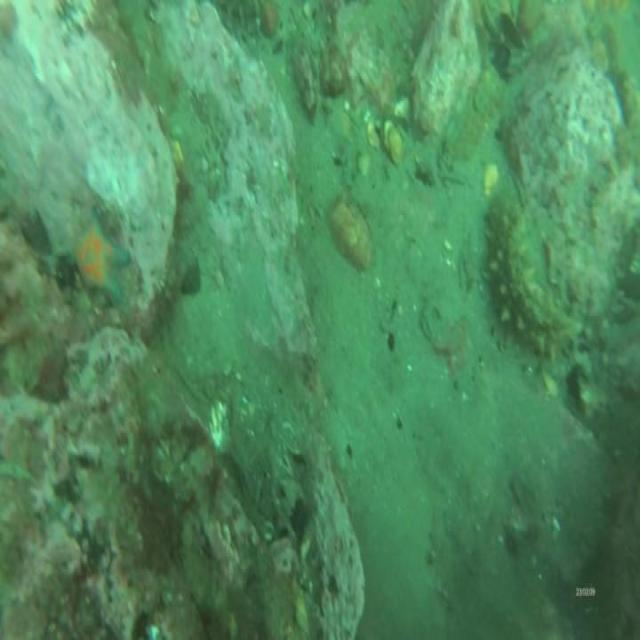holothurian: (486, 196, 574, 359)
starfish: (71, 216, 130, 306)
